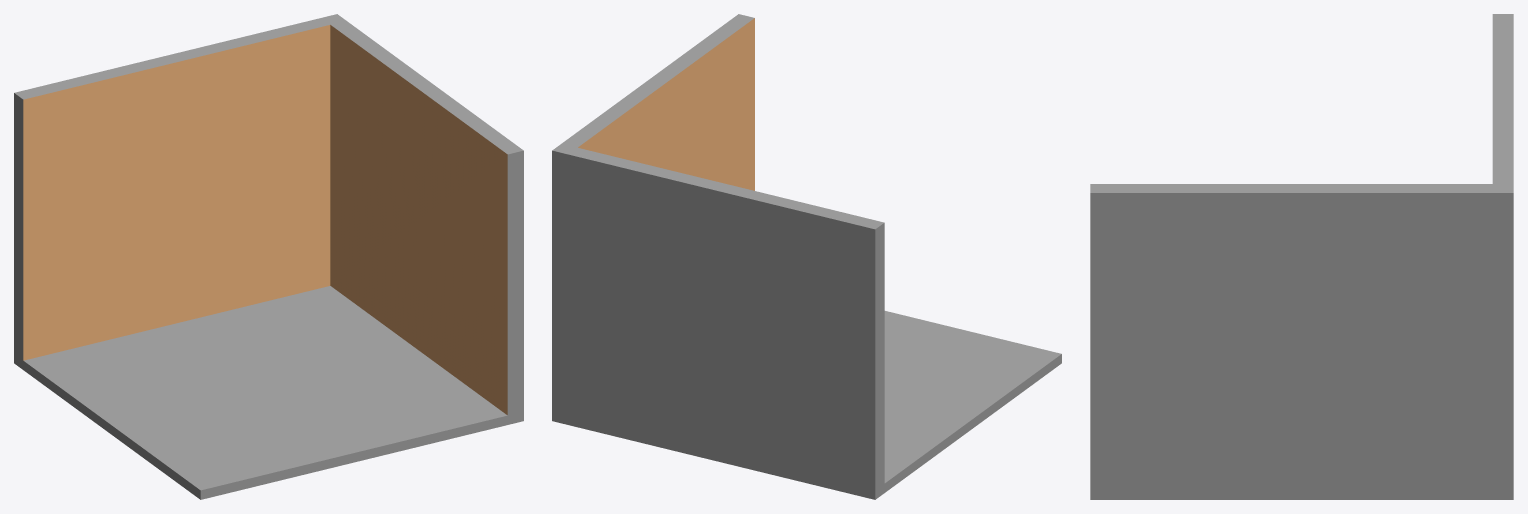
Rendered from Wall_5.fbx.
3 views of the same model, side by side, from view 1: azimuth 30°, elevation 25°; view 2: azimuth 150°, elevation 25°; view 3: azimuth 270°, elevation 25° (orthographic). The views are drawn at different scales.
Parts seen in each view (by area): view 1: Wall_5; view 2: Wall_5; view 3: Wall_5.
Boxes of the visible parts, <box> form: Wall_5: <box>14,14,523,499</box>; Wall_5: <box>552,14,1061,499</box>; Wall_5: <box>1090,14,1513,499</box>.
Size of the model in its own units: 3.8 by 3.04 by 3.8.
